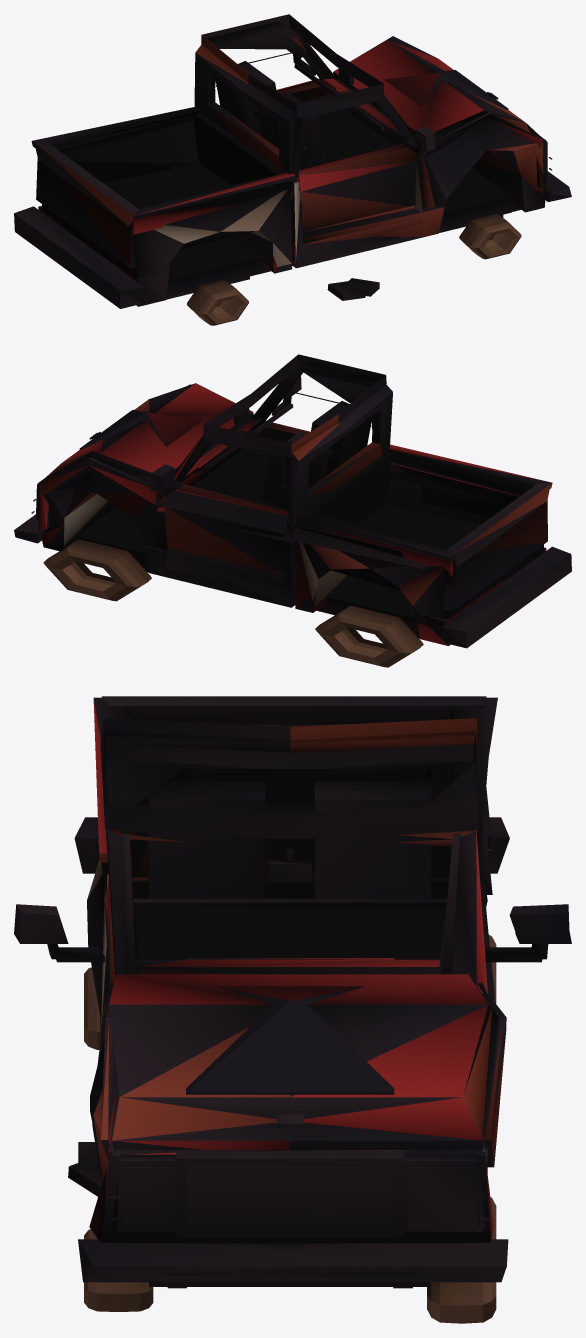
File: veh.pickup-red.burned.lod2.glb
3 renders of one model, top to bottom at view 1: azimuth 30°, elevation 25°; view 2: azimuth 150°, elevation 25°; view 3: azimuth 270°, elevation 25°, orthographic. The views are drawn at different scales.
Visible parts, largest first — view 1: body, wheelRL, wheelFL; view 2: body, wheelRR, wheelFR; view 3: body, wheelFR, wheelFL, wheelRL.
Part boxes in pixels (x1,y1,x2,y2): body: (14, 14, 571, 308); wheelRL: (187, 280, 248, 325); wheelFL: (459, 214, 521, 259); body: (14, 354, 571, 648); wheelRR: (315, 606, 423, 667); wheelFR: (43, 539, 151, 601); body: (14, 696, 571, 1288); wheelFR: (427, 1197, 496, 1323); wheelFL: (84, 1229, 153, 1311); wheelRL: (84, 967, 100, 1049).
Size of the model in its own units: 4.73 by 2.04 by 2.57.
